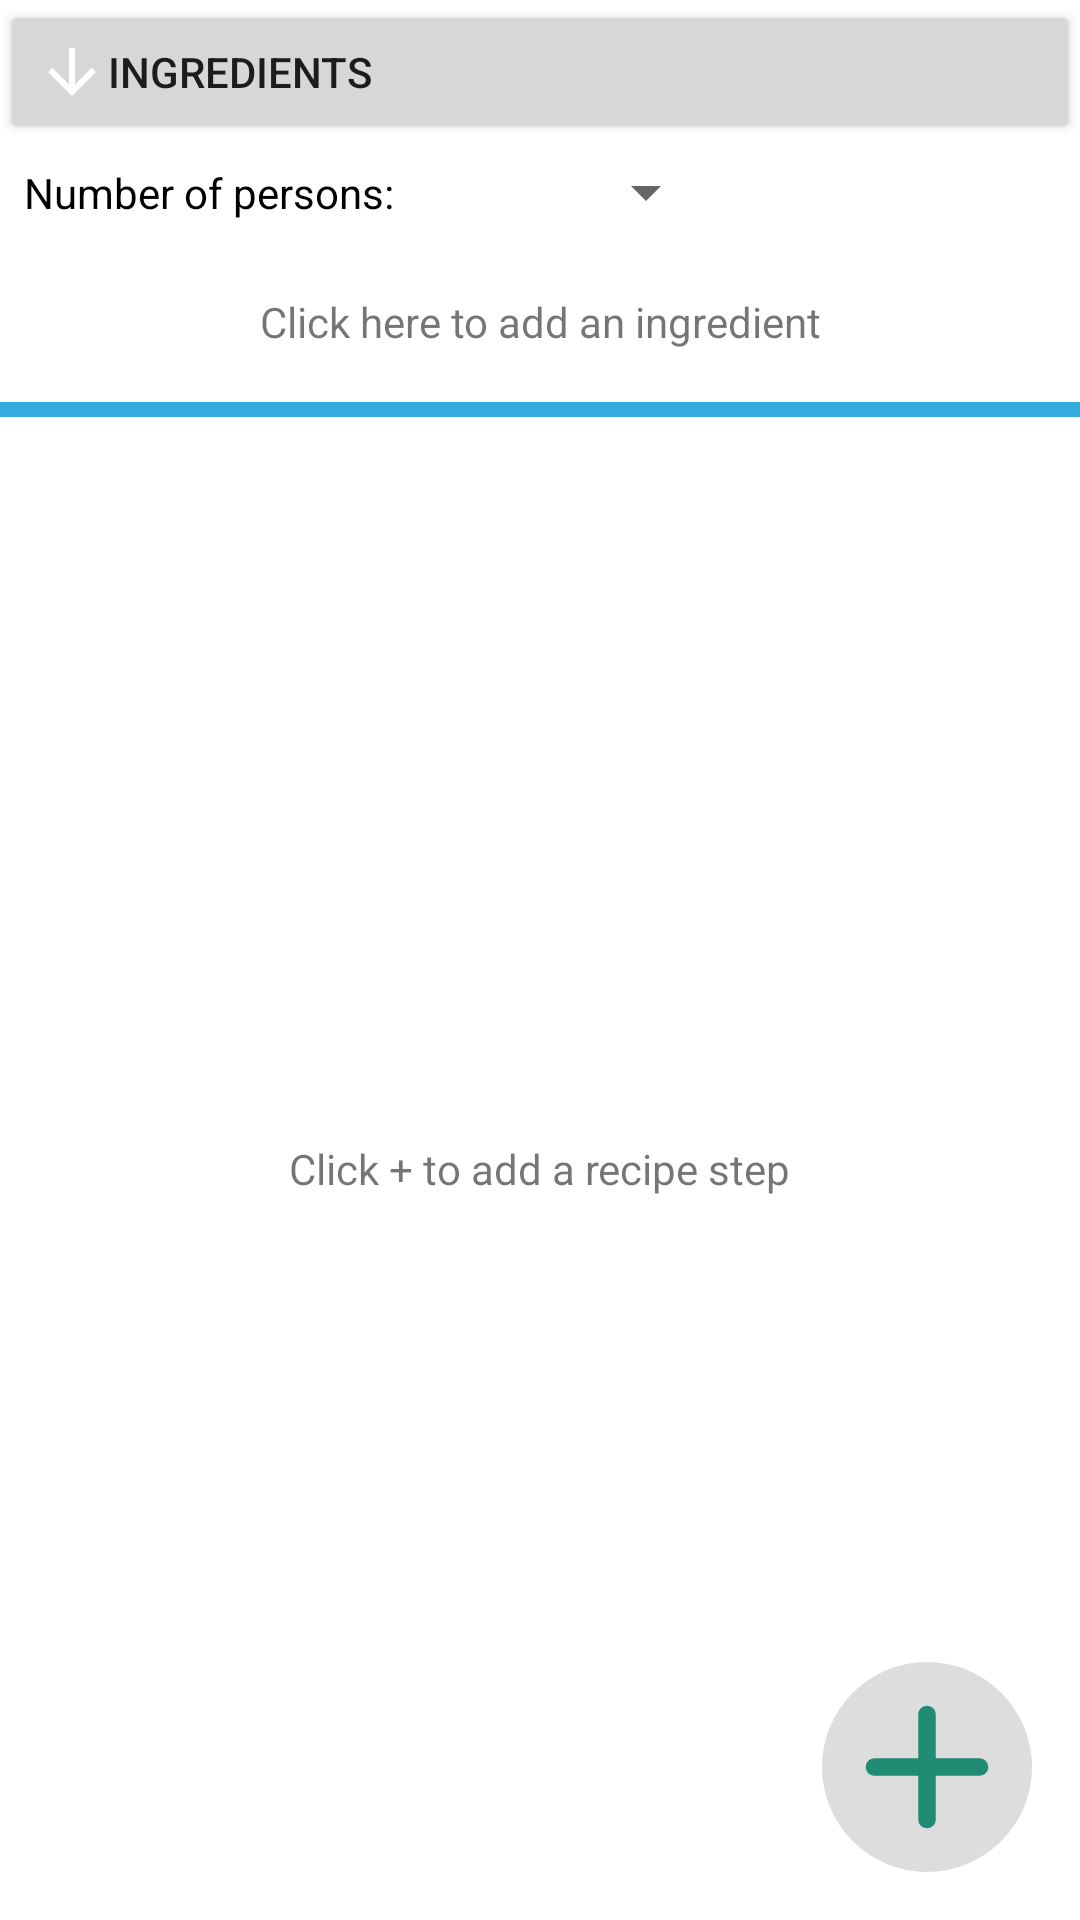

Icon bounding boxes for this 1080×1920 phone screenshot, format (x1, y1, x2, y2):
add: (822, 1662, 1032, 1872)
